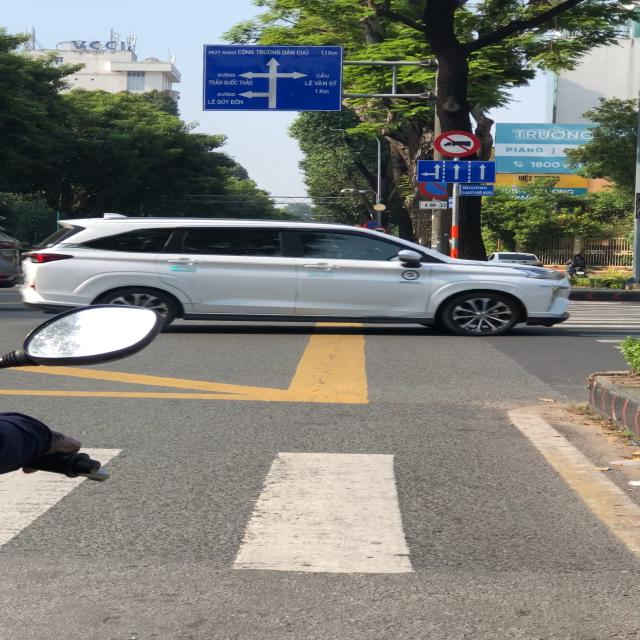Bien bao cam xe so-mi ro-mooc: (432, 130, 485, 161)
